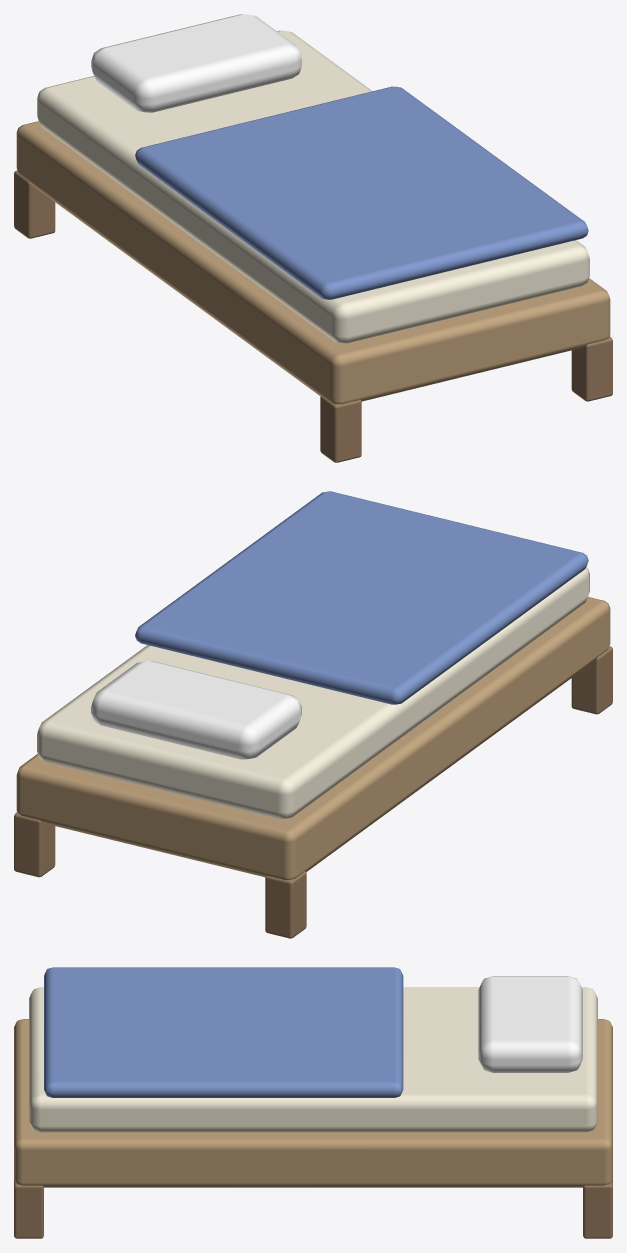
The model's file is bed_simple.glb.
3 renders of one model, top to bottom at view 1: azimuth 30°, elevation 25°; view 2: azimuth 150°, elevation 25°; view 3: azimuth 270°, elevation 25°, orthographic. The views are drawn at different scales.
Parts seen in each view (by area): view 1: blanket, frame, mattress, pillow, leg-1-1, leg1-1, leg-11; view 2: blanket, frame, mattress, pillow, leg-11, leg11, leg-1-1; view 3: blanket, frame, mattress, pillow, leg1-1, leg11.
Boxes of the visible parts, left/top/right/bottom form: blanket: left=135, top=86, right=588, bottom=299; frame: left=16, top=121, right=610, bottom=404; mattress: left=37, top=30, right=589, bottom=343; pillow: left=91, top=14, right=301, bottom=112; leg-1-1: left=320, top=395, right=361, bottom=462; leg1-1: left=571, top=337, right=612, bottom=401; leg-11: left=14, top=170, right=55, bottom=238; blanket: left=135, top=491, right=588, bottom=704; frame: left=16, top=597, right=610, bottom=879; mattress: left=37, top=566, right=589, bottom=818; pillow: left=91, top=661, right=301, bottom=759; leg-11: left=265, top=871, right=306, bottom=938; leg11: left=14, top=812, right=55, bottom=877; leg-1-1: left=571, top=646, right=612, bottom=714; blanket: left=44, top=967, right=403, bottom=1097; frame: left=14, top=1019, right=612, bottom=1187; mattress: left=29, top=987, right=597, bottom=1132; pillow: left=478, top=976, right=582, bottom=1072; leg1-1: left=14, top=1179, right=43, bottom=1238; leg11: left=583, top=1179, right=612, bottom=1238.
Size of the model in its own units: 1 by 0.62 by 2.
